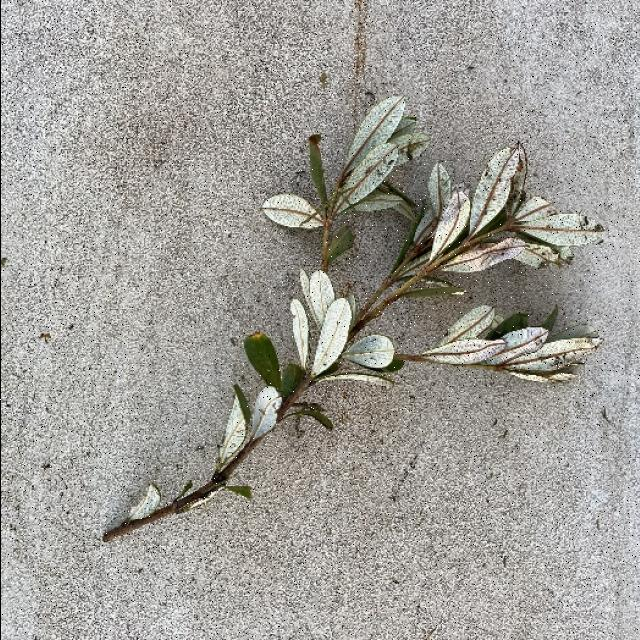organik: (103, 106, 592, 566)
